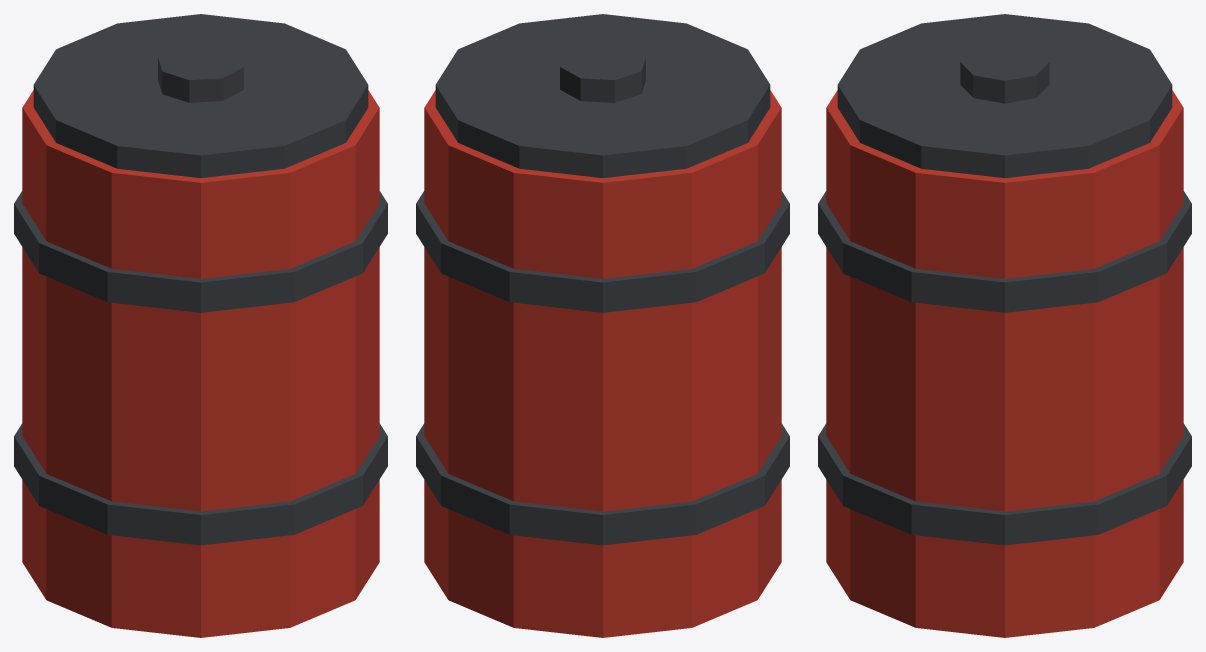
File: PRP_BarrelRed.fbx
The picture shows the model from 3 angles, left to right: view 1: azimuth 30°, elevation 25°; view 2: azimuth 150°, elevation 25°; view 3: azimuth 270°, elevation 25°; orthographic projection.
Parts seen in each view (by area): view 1: PRP_BarrelRed__BODY; view 2: PRP_BarrelRed__BODY; view 3: PRP_BarrelRed__BODY.
Boxes of the visible parts, box(x1,y1,x2,y2) form: PRP_BarrelRed__BODY: box(14, 14, 387, 637); PRP_BarrelRed__BODY: box(416, 14, 789, 637); PRP_BarrelRed__BODY: box(818, 14, 1191, 637).
Bounding box in the file's own units: 0.67 × 0.99 × 0.67.
